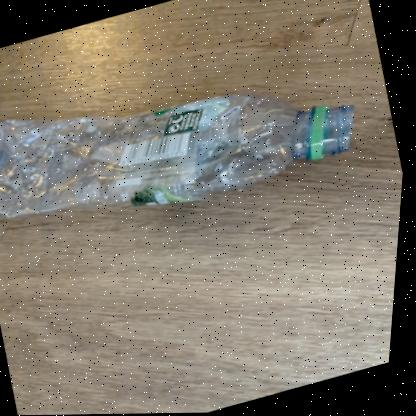Waste: (0, 95, 353, 217)
